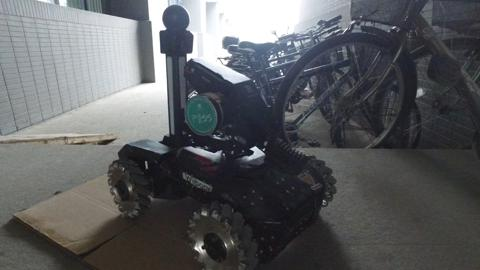bike: (276, 15, 478, 160)
chariot: (80, 1, 325, 266)
